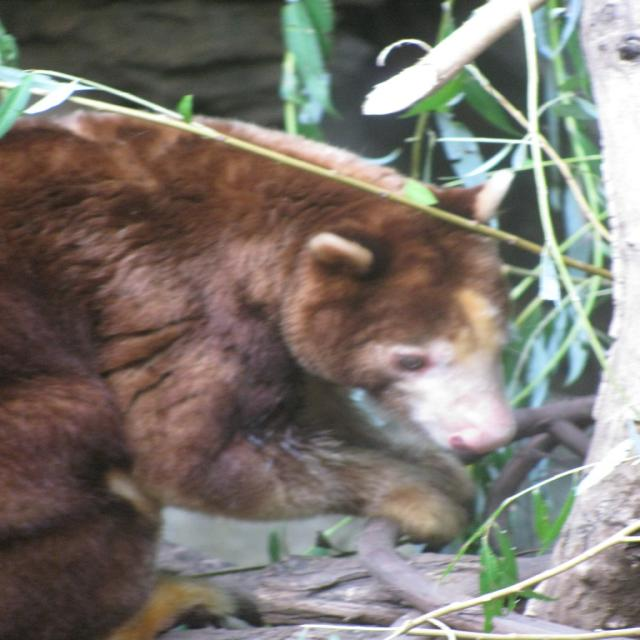Buffalo: (0, 105, 522, 640)
